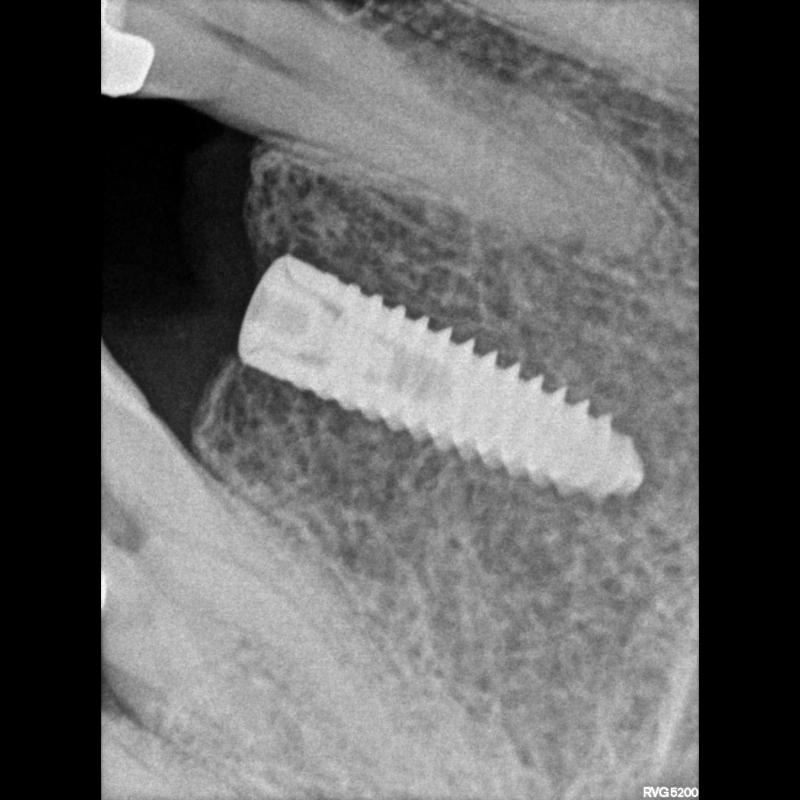MIS: (230, 248, 646, 508)
